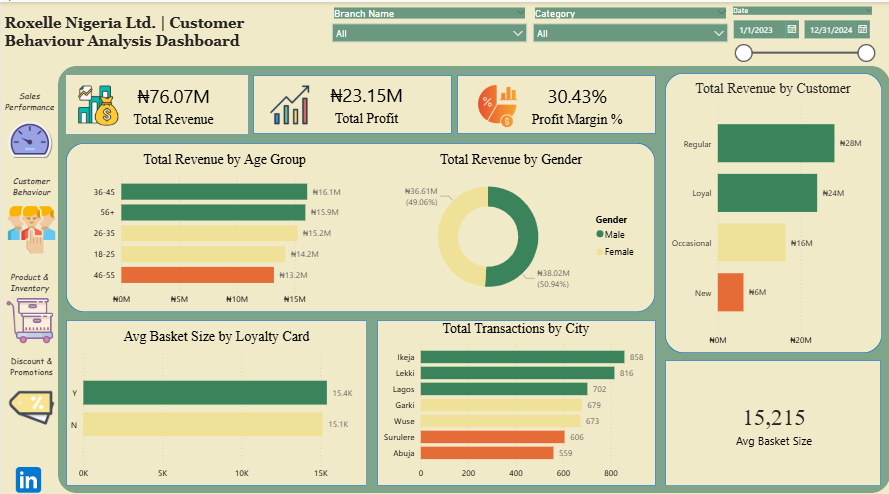

What the dashboard file says about the page in this screenshot:
{"tool":"powerbi","page":{"name":"Customer Behaviour Analysis","canvas":[1280,720],"ordinal":1},"visuals":[{"type":"shape","box":[82.1,92.2,1198.1,614.9],"z":0},{"type":"shape","box":[541.4,457.9,401.8,239],"z":1000},{"type":"shape","box":[94.1,203.3,848.3,243.6],"z":2000},{"type":"shape","box":[93.6,457.9,433.4,239],"z":3000},{"type":"shape","box":[956.2,515.5,311,181.4],"z":4000},{"type":"shape","box":[93.6,105.1,262.1,85],"z":5000},{"type":"slicer","fields":{"Values":["branches.Branch Name"]},"box":[466.6,2.9,301,90.7],"z":6000},{"type":"slicer","fields":{"Values":["date.Date"]},"box":[1041.1,1.4,226.1,92.2],"z":7000},{"type":"slicer","fields":{"Values":["products.Category"]},"box":[756,2.9,301,90.7],"z":8000},{"type":"shape","box":[362.9,105.1,286.6,85],"z":9000},{"type":"shape","box":[656.6,105.1,286.6,85],"z":10000},{"type":"card","title":"Total Revenue","fields":{"Values":["Measure.Total Revenue"]},"box":[141.1,105.1,214.6,85],"z":11000},{"type":"card","title":"Total Profit","fields":{"Values":["Measure.Total Profit"]},"box":[403.2,102.2,246.2,87.8],"z":12000},{"type":"card","title":"Profit Margin","fields":{"Values":["Measure.Profit Margin %"]},"box":[715.7,105.1,227.5,85],"z":13000},{"type":"textbox","box":[0,13,466.6,79.2],"z":14000},{"type":"image","box":[105.1,115.2,70.6,67.7],"z":15000},{"type":"image","box":[365.8,115.2,100.8,66.2],"z":16000},{"type":"image","box":[676.8,112.3,77.8,74.9],"z":17000},{"type":"shape","box":[956.2,102.2,312.5,403.2],"z":18000},{"type":"card","fields":{"Values":["Measure.Avg Basket Size"]},"box":[957.6,522.7,311,167],"z":19000},{"type":"clusteredBarChart","title":"Total Revenue by Customer ","fields":{"Category":["customers.Customer Segment"],"Y":["Measure.Total Revenue"]},"box":[956.2,112.3,311,393.1],"z":20000},{"type":"clusteredBarChart","fields":{"Category":["customers.City"],"Y":["Measure.Total Transactions"]},"box":[541.4,457.9,400.3,239],"z":21000},{"type":"clusteredBarChart","fields":{"Category":["customers.Loyalty Card"],"Y":["Measure.Avg Basket Size"]},"box":[93.6,469.4,433.4,227.5],"z":22000},{"type":"clusteredBarChart","fields":{"Category":["customers.Age Group"],"Y":["Measure.Total Revenue"]},"box":[125.3,214.6,393.1,231.8],"z":23000},{"type":"donutChart","fields":{"Category":["customers.Gender"],"Y":["Measure.Total Revenue"]},"box":[541.4,214.6,385.9,224.6],"z":24000},{"type":"image","title":"Sales Performance","box":[0,126.7,82.1,110.9],"z":24001},{"type":"image","title":"Customer Behaviour","box":[0,249.6,87.8,125.3],"z":24002},{"type":"image","title":"Product & Inventory","box":[0,386.9,82.1,109.4],"z":24003},{"type":"image","title":"Discount & Promotions","box":[0,508.3,87.8,119.5],"z":24004},{"type":"image","box":[10.1,656.6,59,63.4],"z":24005}]}

Visuals, with their boxes in screenshot pixels (x1, y1, x2, y2), scaled from the page's 1280x720 canvas onto the 889x494 screenshot:
shape: l=57, t=63, r=888, b=485
shape: l=376, t=314, r=655, b=478
shape: l=65, t=139, r=655, b=307
shape: l=65, t=314, r=366, b=478
shape: l=664, t=354, r=880, b=478
shape: l=65, t=72, r=247, b=130
slicer - branches.Branch Name: l=324, t=2, r=533, b=64
slicer - date.Date: l=723, t=1, r=880, b=64
slicer - products.Category: l=525, t=2, r=734, b=64
shape: l=252, t=72, r=451, b=130
shape: l=456, t=72, r=655, b=130
"Total Revenue" card: l=98, t=72, r=247, b=130
"Total Profit" card: l=280, t=70, r=451, b=130
"Profit Margin" card: l=497, t=72, r=655, b=130
textbox: l=0, t=9, r=324, b=63
image: l=73, t=79, r=122, b=125
image: l=254, t=79, r=324, b=124
image: l=470, t=77, r=524, b=128
shape: l=664, t=70, r=881, b=347
card - Measure.Avg Basket Size: l=665, t=359, r=881, b=473
"Total Revenue by Customer " clusteredBarChart: l=664, t=77, r=880, b=347
clusteredBarChart - customers.City x Measure.Total Transactions: l=376, t=314, r=654, b=478
clusteredBarChart - customers.Loyalty Card x Measure.Avg Basket Size: l=65, t=322, r=366, b=478
clusteredBarChart - customers.Age Group x Measure.Total Revenue: l=87, t=147, r=360, b=306
donutChart - customers.Gender x Measure.Total Revenue: l=376, t=147, r=644, b=301
"Sales Performance" image: l=0, t=87, r=57, b=163
"Customer Behaviour" image: l=0, t=171, r=61, b=257
"Product & Inventory" image: l=0, t=265, r=57, b=341
"Discount & Promotions" image: l=0, t=349, r=61, b=431
image: l=7, t=451, r=48, b=493
